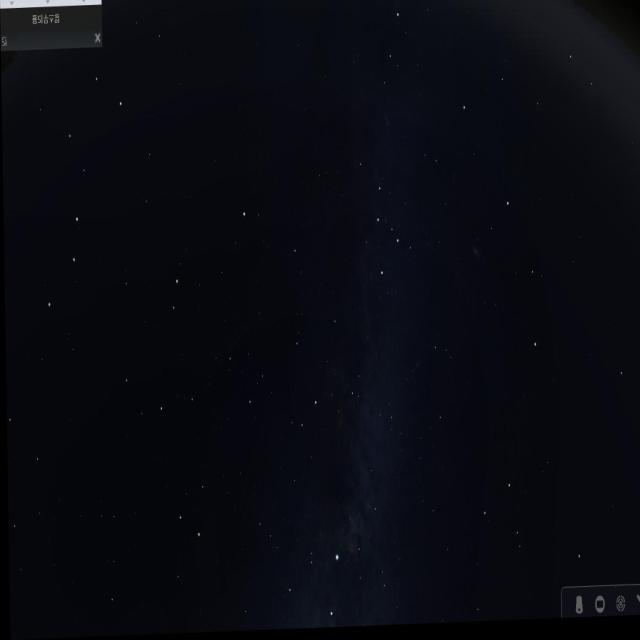cassiopeia: (344, 153, 416, 304)
ursa_major: (34, 61, 145, 346)
